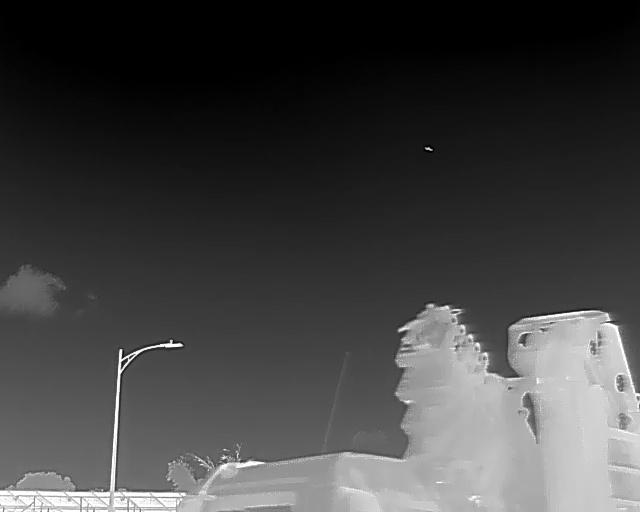fpv-drone: (423, 146, 433, 151)
